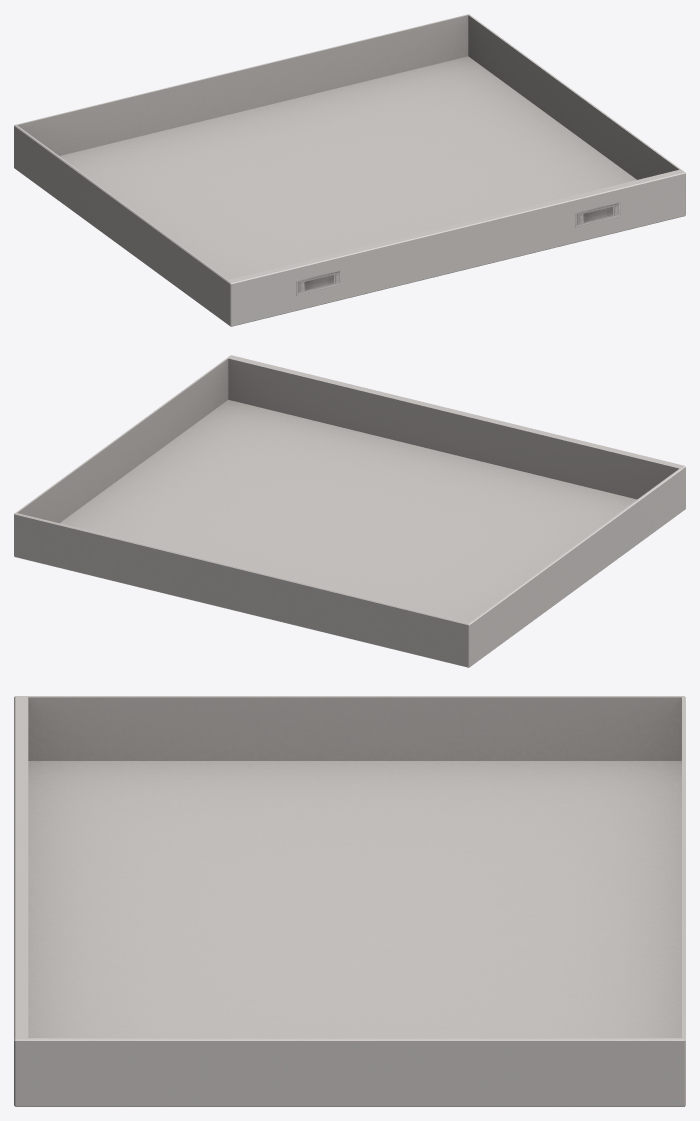
File: drawer.glb
The picture shows the model from 3 angles, top to bottom: view 1: azimuth 30°, elevation 25°; view 2: azimuth 150°, elevation 25°; view 3: azimuth 270°, elevation 25°; orthographic projection. The views are drawn at different scales.
Parts seen in each view (by area): view 1: Plane001; view 2: Plane001; view 3: Plane001.
Part boxes in pixels (box(x1,y1,x2,y2)): Plane001: box(14, 14, 685, 326); Plane001: box(14, 355, 685, 667); Plane001: box(14, 696, 685, 1106).
Size of the model in its own units: 1200 by 110 by 990.
Materials: 1 (1 with a texture image).
